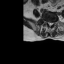CCS_normal: (49, 20, 51, 28)
LFS_severe_stenosis: (53, 20, 55, 25)
LLS_normal: (51, 20, 53, 26)
RFS_severe_stenosis: (46, 19, 47, 24)
RLS_normal: (47, 20, 49, 26)
